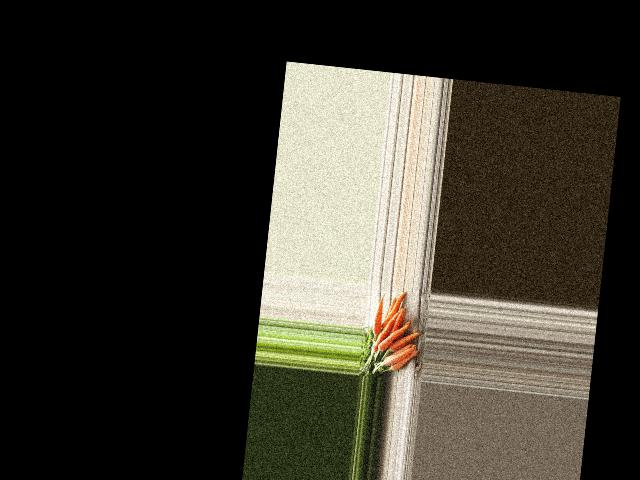carrot: (369, 296, 385, 334)
